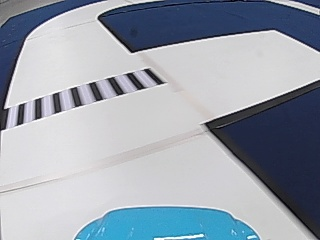CrossWalk: (17, 70, 153, 122)
